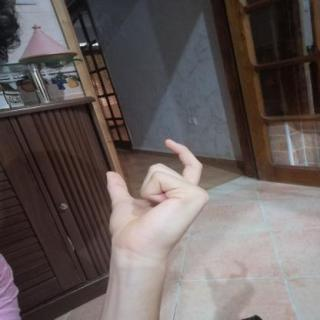NOON: (86, 130, 222, 266)
